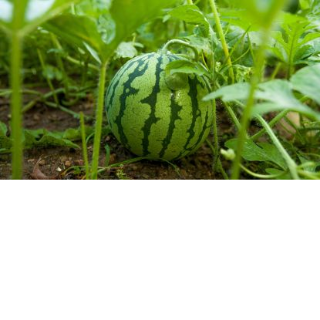dua_hau: (101, 46, 216, 166)
